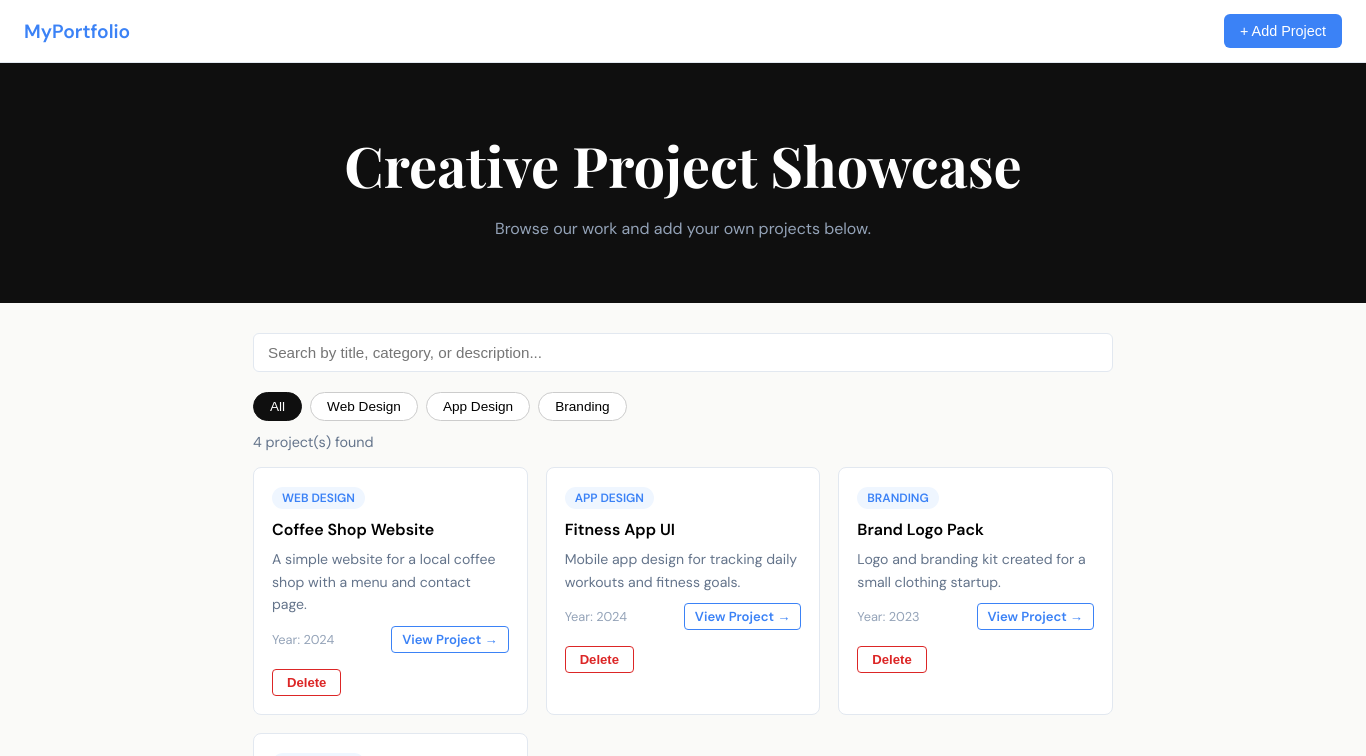
it: shows no results message when nothing matches
Step 1. Type "xyzxyzxyz" into the field with placeholder "Search by title, category, or description..." → (683, 352), box [253,333,1113,372]
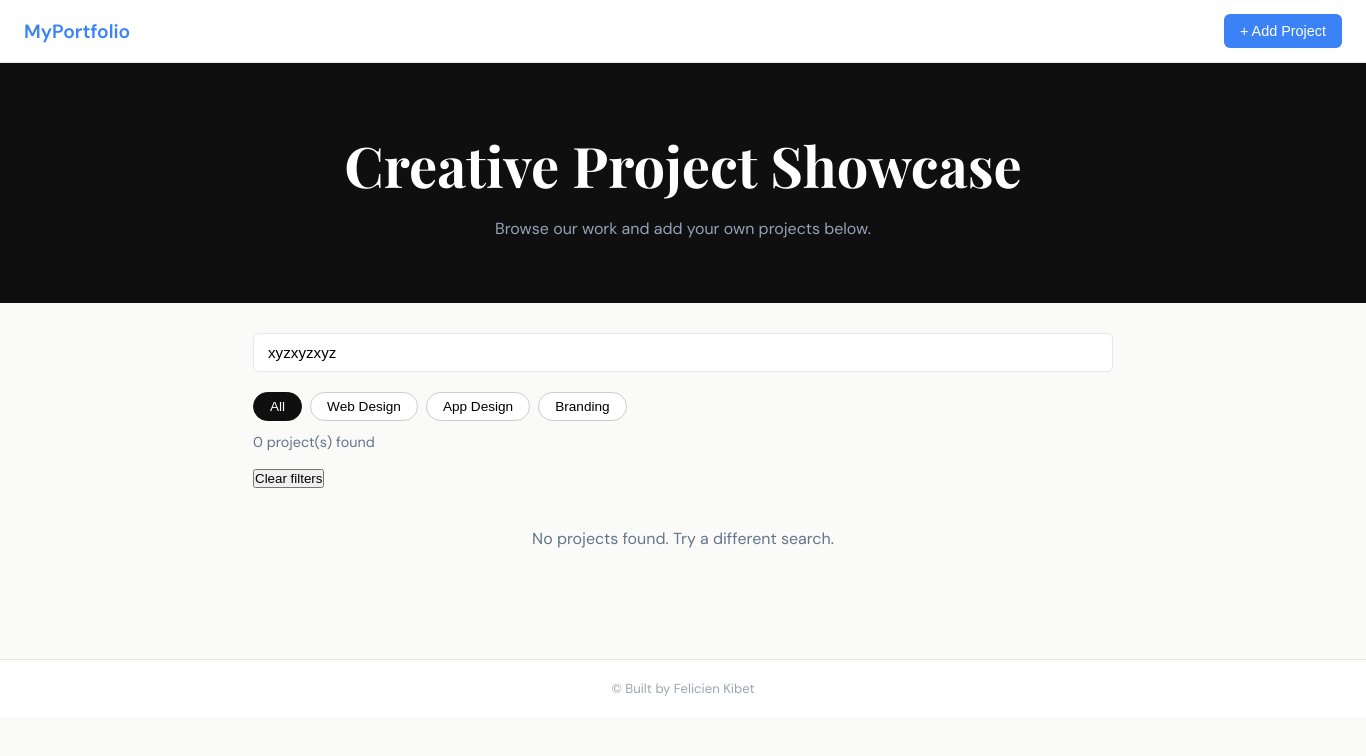
Now the text "No projects found. Try a different search." is shown, box [532,528,834,549]
